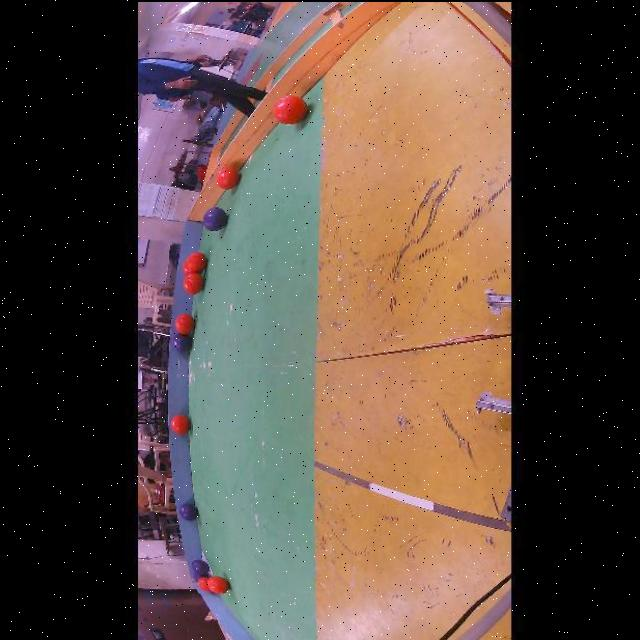P: (202, 206, 227, 230), (172, 332, 190, 351), (179, 502, 198, 520), (190, 559, 209, 575), (192, 571, 202, 581)
R: (272, 94, 307, 123), (215, 165, 238, 188), (184, 250, 207, 271), (183, 271, 203, 293), (206, 575, 229, 593), (175, 312, 194, 333), (170, 414, 189, 433), (197, 576, 210, 590), (181, 259, 192, 275)
